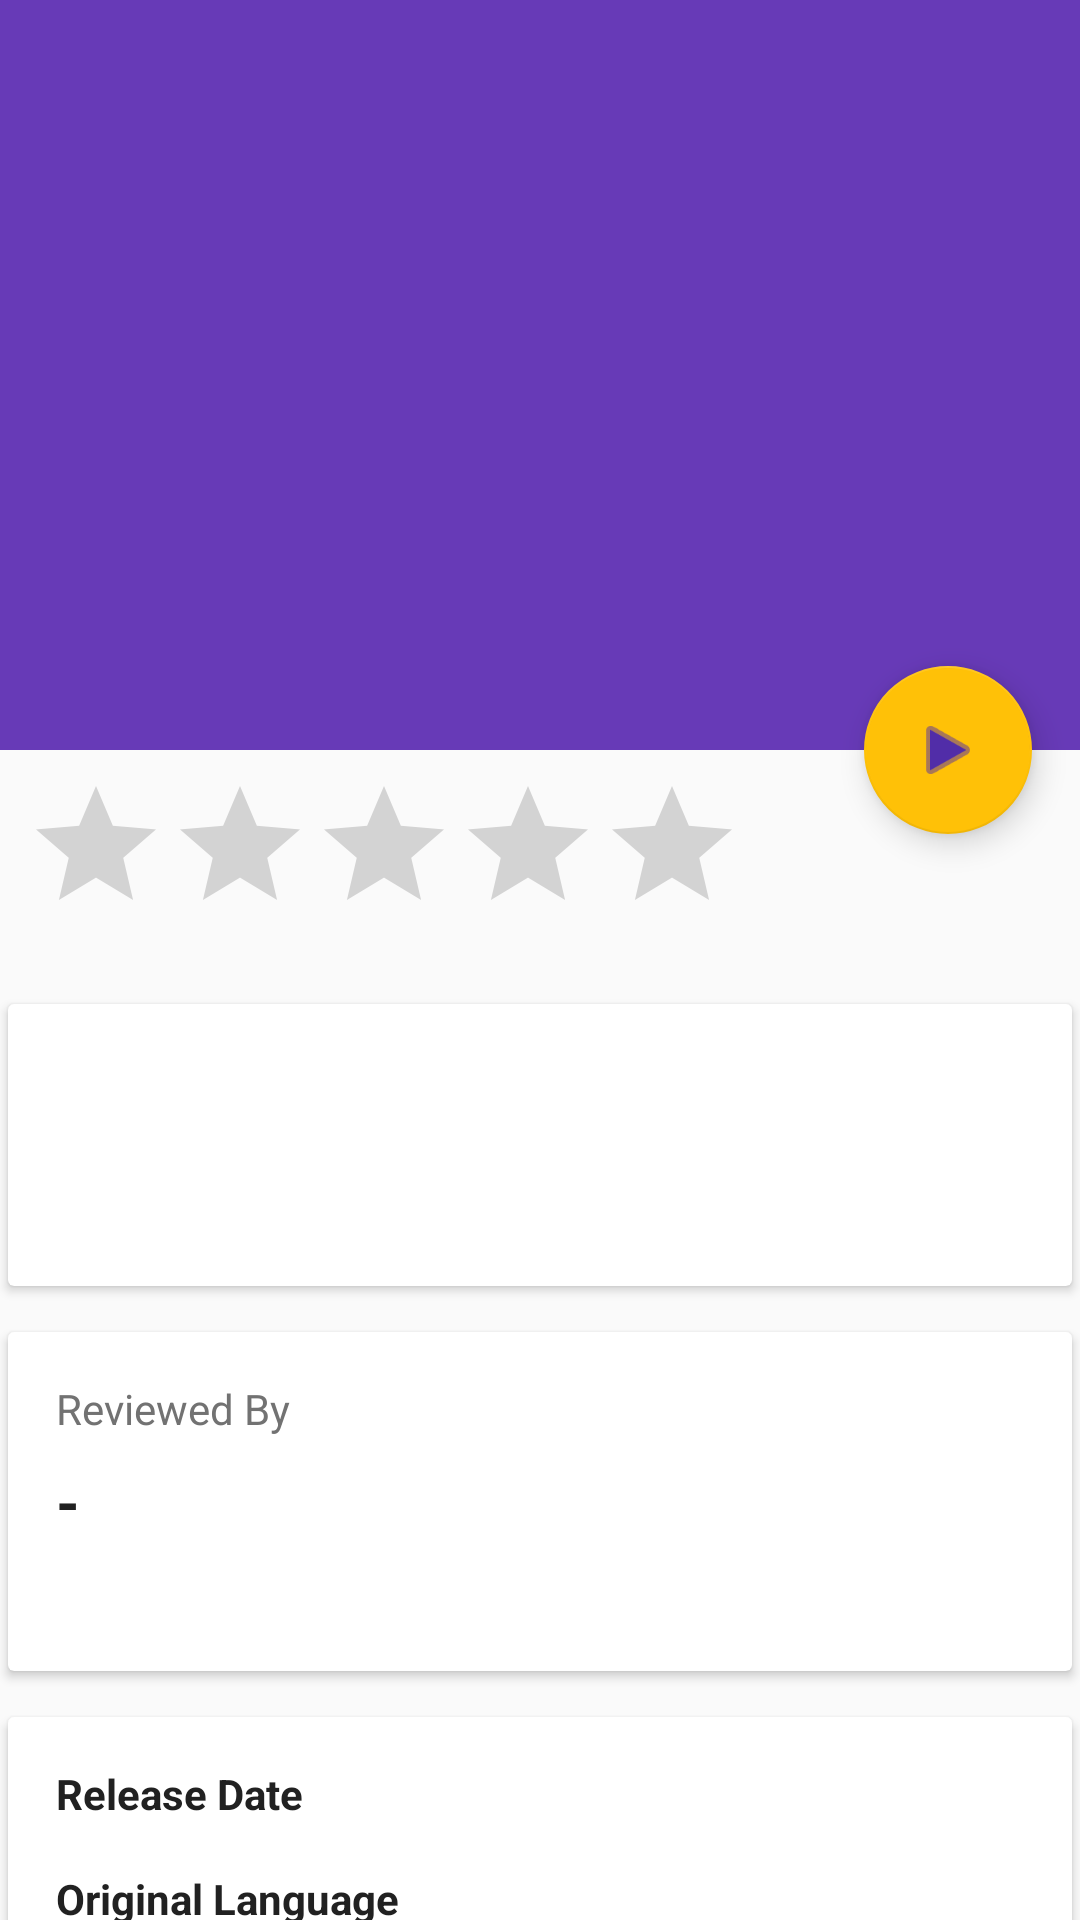

Where to tap for icons on this 1080px x 1920px app screen, as (x,y):
play: (948,750)
